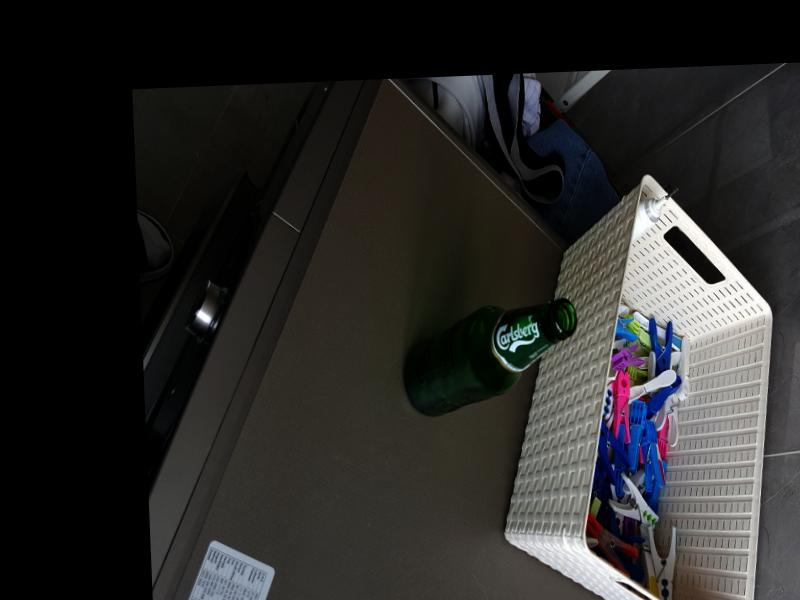Beer: (400, 299, 581, 417)
